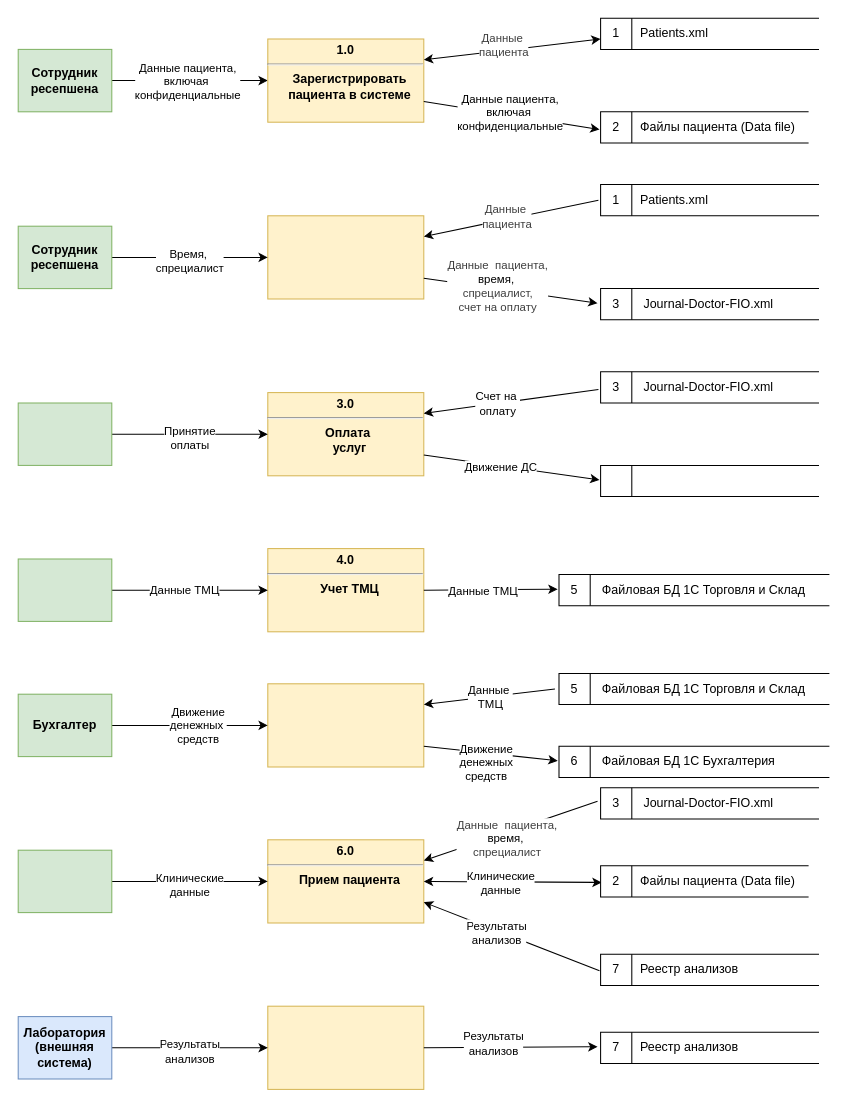
This 848x1108 diagram has some shape labels left out. Each missing label, with the centre of its shape:
"2.0 Запись к специалисту" belongs at point (345, 257).
"4 Файловая БД 1С Бухгалтерия" belongs at point (709, 480).
"5.0 Процесс платежей" belongs at point (345, 725).
"7.0 Получение результатов анализов" belongs at point (345, 1047).
"Кассир" belongs at point (64, 433).
"Сотрудник склада" belongs at point (64, 589).
"Специалист - Медик" belongs at point (64, 881).
